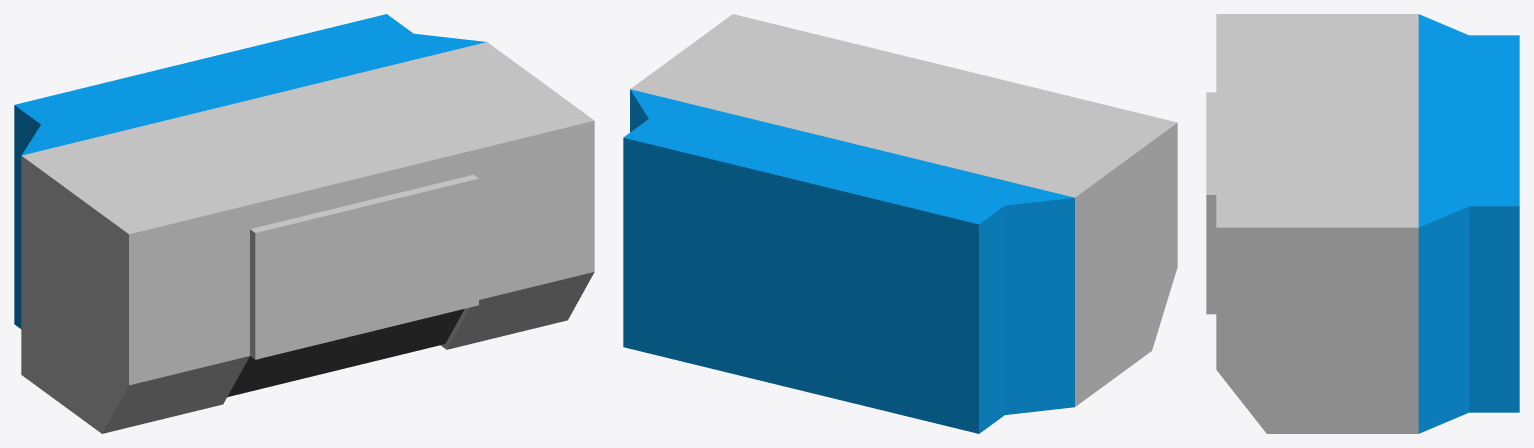
The model's file is cnc_vertical_machining_center_2_state_2.dae.
3 views of the same model, side by side, from view 1: azimuth 30°, elevation 25°; view 2: azimuth 150°, elevation 25°; view 3: azimuth 270°, elevation 25° (orthographic). The views are drawn at different scales.
Visible parts, largest first — view 1: coords_ME_ID3_MA_material_8, coords_ME_ID33_MA_material_6, coords_ME_ID27_MA_material; view 2: coords_ME_ID33_MA_material_6, coords_ME_ID3_MA_material_8; view 3: coords_ME_ID3_MA_material_8, coords_ME_ID33_MA_material_6.
Boxes of the visible parts, <box> form: coords_ME_ID3_MA_material_8: <box>21,42,594,433</box>; coords_ME_ID33_MA_material_6: <box>14,14,486,328</box>; coords_ME_ID27_MA_material: <box>227,309,464,396</box>; coords_ME_ID33_MA_material_6: <box>623,89,1074,433</box>; coords_ME_ID3_MA_material_8: <box>630,14,1177,406</box>; coords_ME_ID3_MA_material_8: <box>1206,14,1418,433</box>; coords_ME_ID33_MA_material_6: <box>1418,14,1519,433</box>.
Size of the model in its own units: 43.31 by 19.92 by 26.85.
